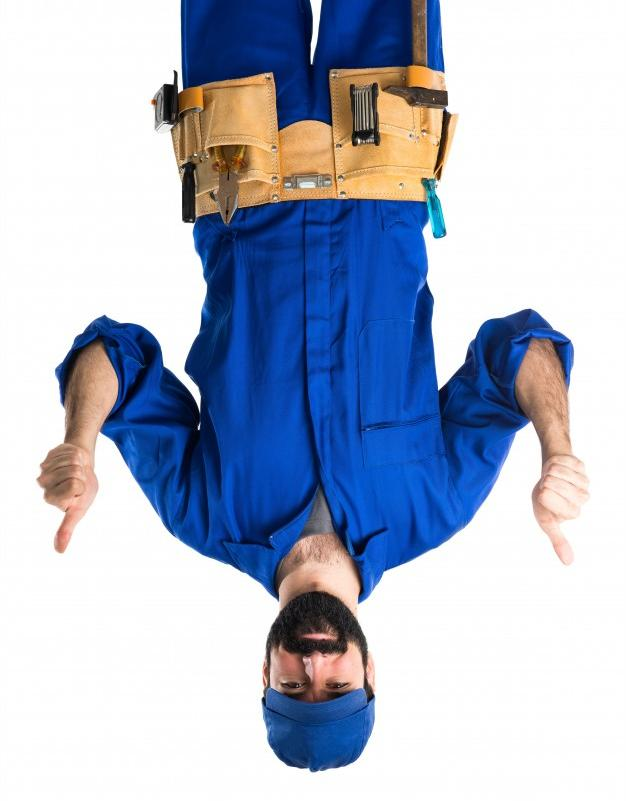thumbsdown: (534, 455, 589, 566), (36, 444, 89, 554)
